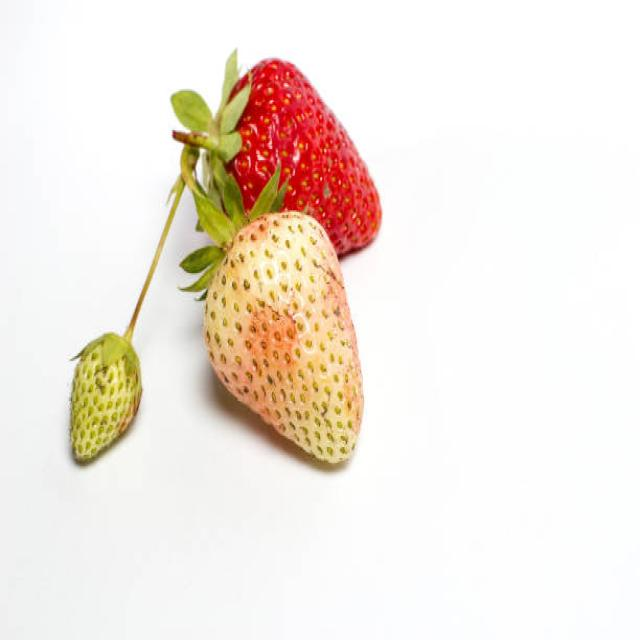Healthy Fruit: (204, 210, 364, 464), (215, 55, 381, 259), (70, 332, 142, 464)
